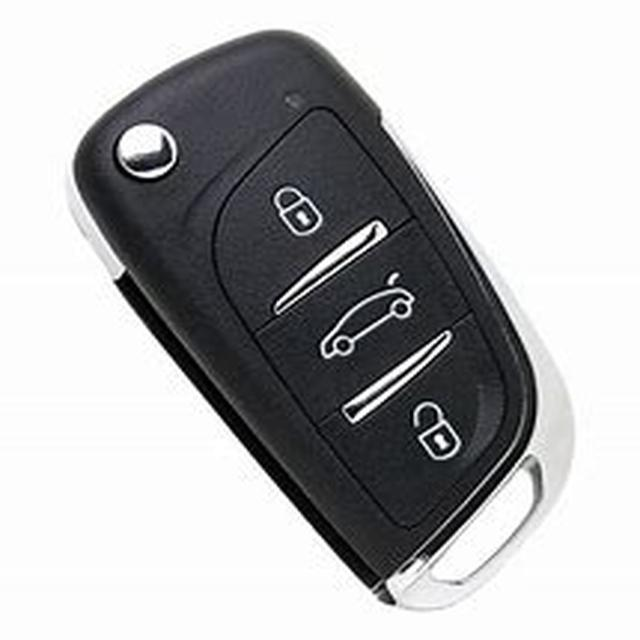key: (50, 33, 598, 618)
